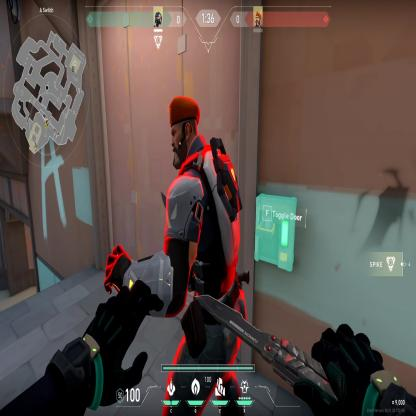enemy: (103, 95, 247, 310)
